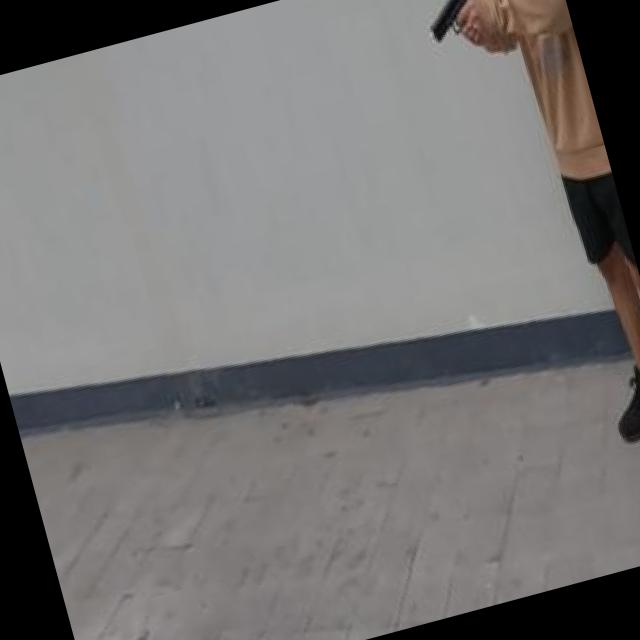Guns: (391, 0, 512, 83)
